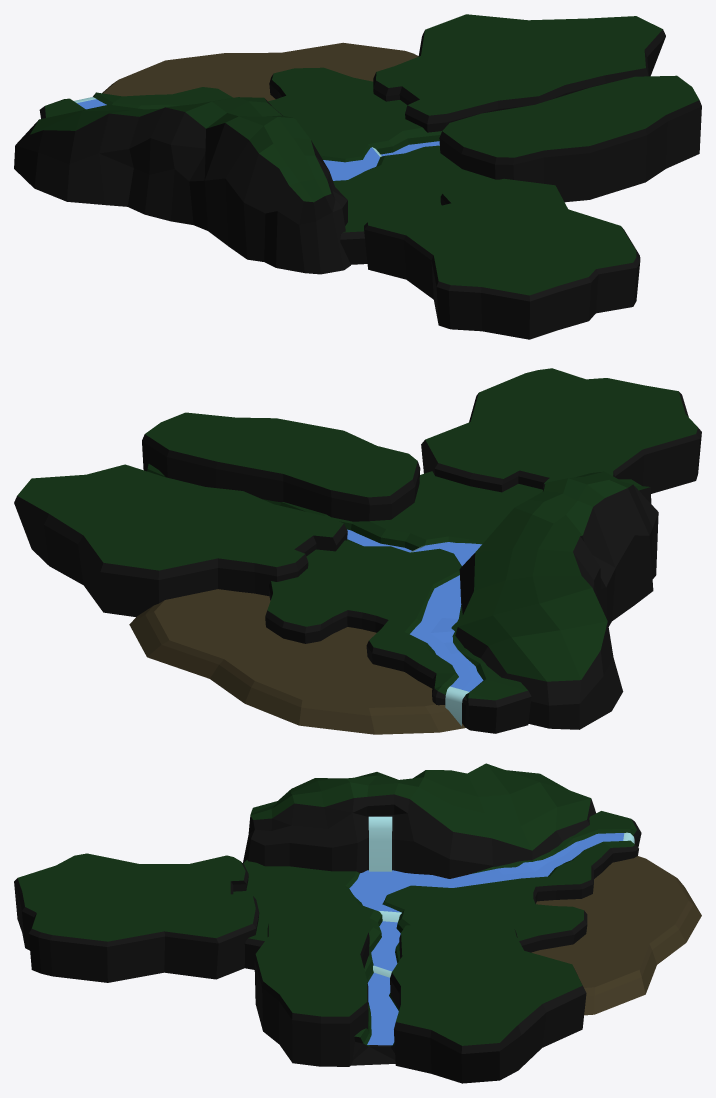
The model's file is Test Land 1.5.fbx.
The picture shows the model from 3 angles, top to bottom: view 1: azimuth 30°, elevation 25°; view 2: azimuth 150°, elevation 25°; view 3: azimuth 270°, elevation 25°; orthographic projection. The views are drawn at different scales.
Parts seen in each view (by area): view 1: Mountain, Lv4, Lv3, Lv2, Lv1, Lv0, River; view 2: Mountain, Lv2, Lv1, Lv4, Lv0, Lv3, River; view 3: Mountain, Lv4, Lv2, Lv1, Lv3, Lv0, River, WaterFall.
Boxes of the visible parts, x1,y1,x2,y2 form: Mountain: (14, 97, 350, 274); Lv4: (364, 178, 640, 339); Lv3: (439, 75, 701, 202); Lv2: (373, 14, 665, 132); Lv1: (39, 67, 498, 264); Lv0: (102, 42, 418, 101); River: (77, 99, 439, 180); Mountain: (455, 471, 658, 729); Lv2: (14, 464, 347, 616); Lv1: (147, 464, 542, 733); Lv4: (421, 368, 701, 493); Lv0: (129, 589, 465, 734); Lv3: (142, 412, 420, 521); River: (347, 529, 483, 691); Mountain: (243, 763, 596, 878); Lv4: (14, 853, 259, 982); Lv2: (390, 923, 586, 1083); Lv1: (233, 811, 641, 1065); Lv3: (254, 910, 369, 1066); Lv0: (531, 856, 701, 1015); River: (349, 833, 624, 1045); WaterFall: (368, 816, 392, 871).
Size of the model in its own units: 17226 by 18612 by 3185.
